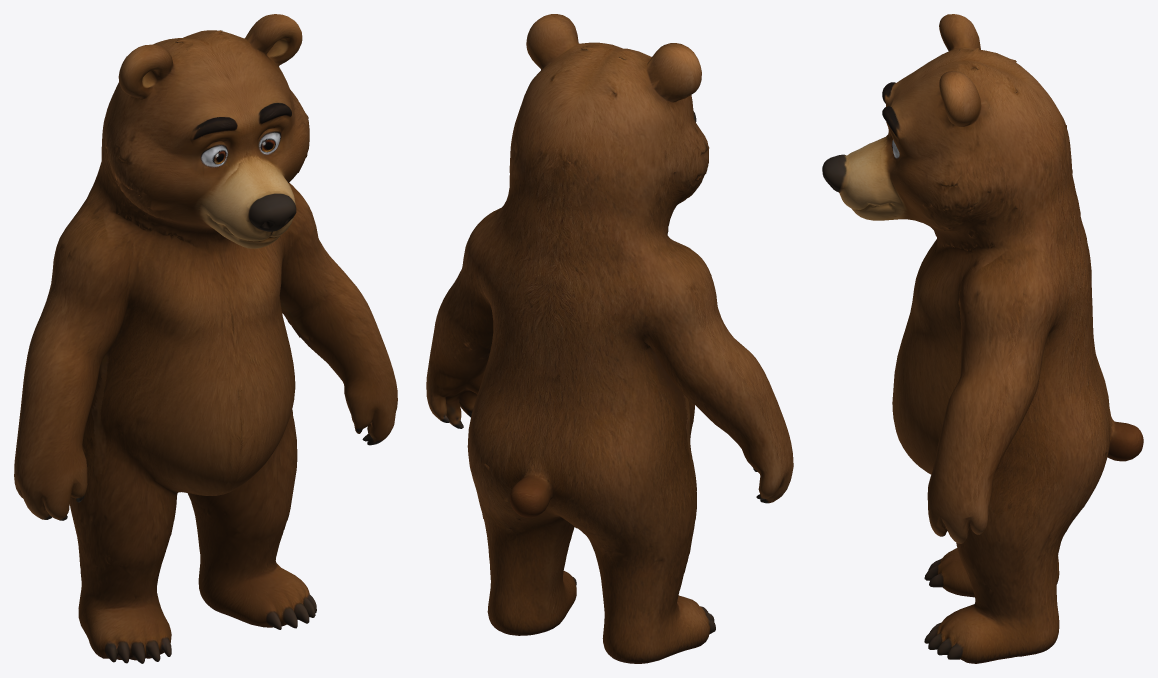
Rendered from bear_01_orig.glb.
3 renders of one model, left to right at view 1: azimuth 30°, elevation 25°; view 2: azimuth 150°, elevation 25°; view 3: azimuth 270°, elevation 25°, orthographic. The views are drawn at different scales.
Visible parts, largest first — view 1: geometry_0.001; view 2: geometry_0.001; view 3: geometry_0.001.
Part boxes in pixels (left/top/right/bottom): geometry_0.001: left=14, top=14, right=397, bottom=663; geometry_0.001: left=426, top=14, right=793, bottom=663; geometry_0.001: left=822, top=14, right=1143, bottom=663.
Size of the model in its own units: 1.28 by 2 by 1.02.
Materials: 1 (1 with a texture image).
